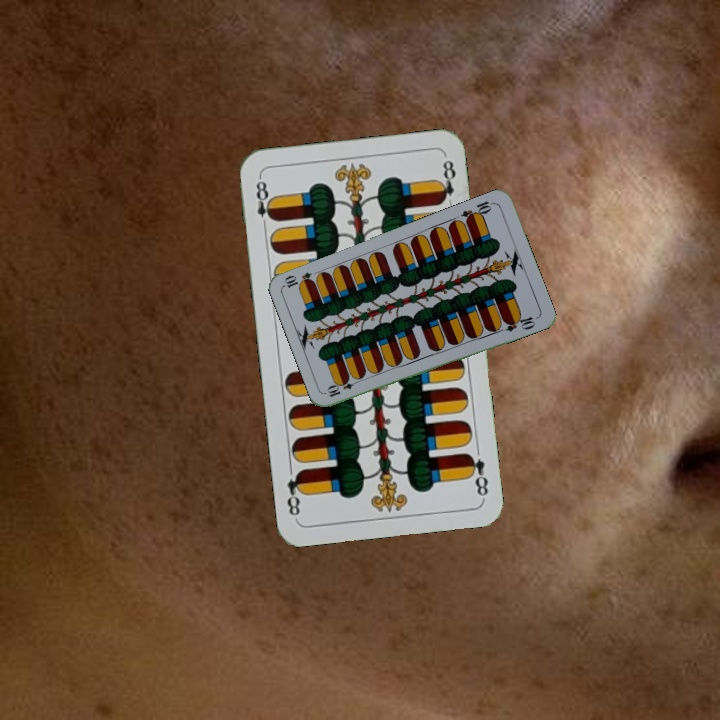E10: (457, 197, 496, 225), (323, 375, 363, 400)
E8: (252, 173, 277, 233), (463, 449, 491, 500)
